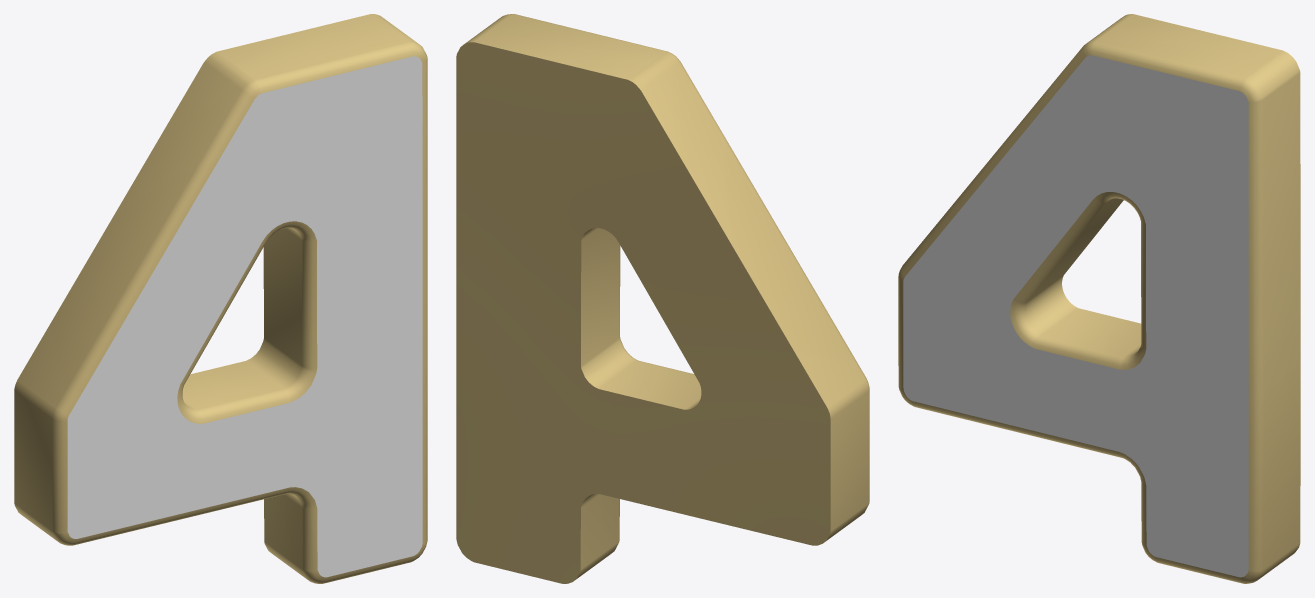
The model's file is LettersLightUp02_4.FBX.
The picture shows the model from 3 angles, left to right: view 1: azimuth 30°, elevation 25°; view 2: azimuth 150°, elevation 25°; view 3: azimuth 330°, elevation 25°; orthographic projection. The views are drawn at different scales.
Visible parts, largest first — view 1: LettersLightUp02_4; view 2: LettersLightUp02_4; view 3: LettersLightUp02_4.
Boxes of the visible parts, <box> form: LettersLightUp02_4: <box>14,14,427,583</box>; LettersLightUp02_4: <box>456,14,869,583</box>; LettersLightUp02_4: <box>898,14,1300,583</box>.
Size of what is drawn, in the model's own units: 0.4517 by 0.5996 by 0.0912.
